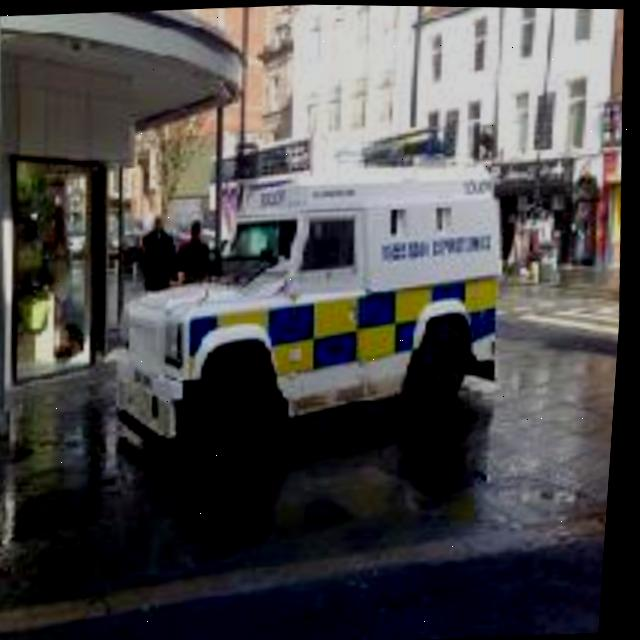emergency: (108, 131, 514, 458)
